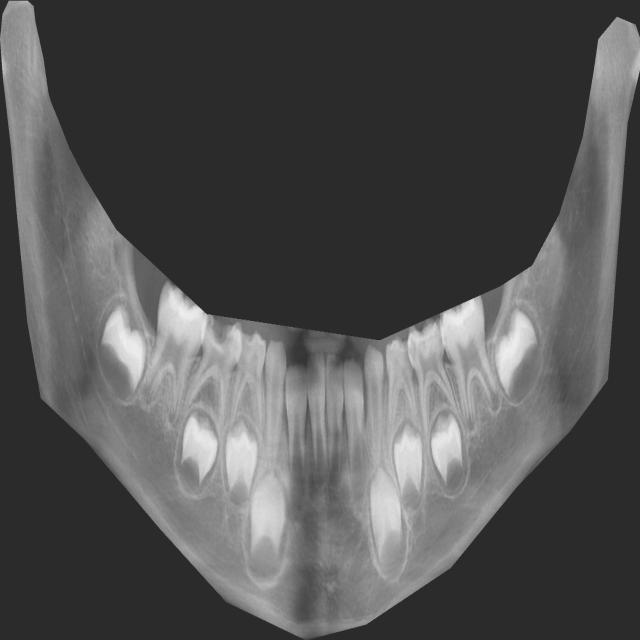mandibula: (0, 1, 640, 640)
